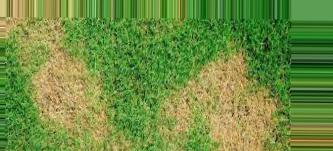patch: (194, 77, 267, 134), (35, 68, 82, 112), (177, 99, 197, 124), (57, 114, 84, 129), (233, 137, 260, 151), (55, 51, 76, 65)
